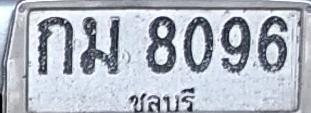0: (183, 15, 213, 72)
6: (258, 14, 288, 72)
8: (146, 14, 176, 72)
9: (220, 15, 250, 73)
A01: (37, 15, 73, 74)
A33: (80, 15, 120, 74)
CBI: (126, 82, 198, 113)
